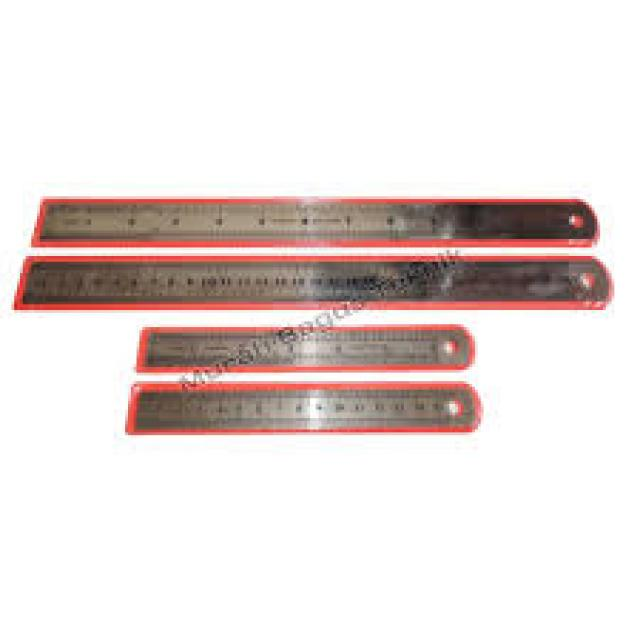Ruler: (17, 259, 606, 307), (40, 202, 592, 239), (131, 381, 478, 432), (142, 327, 469, 367)
